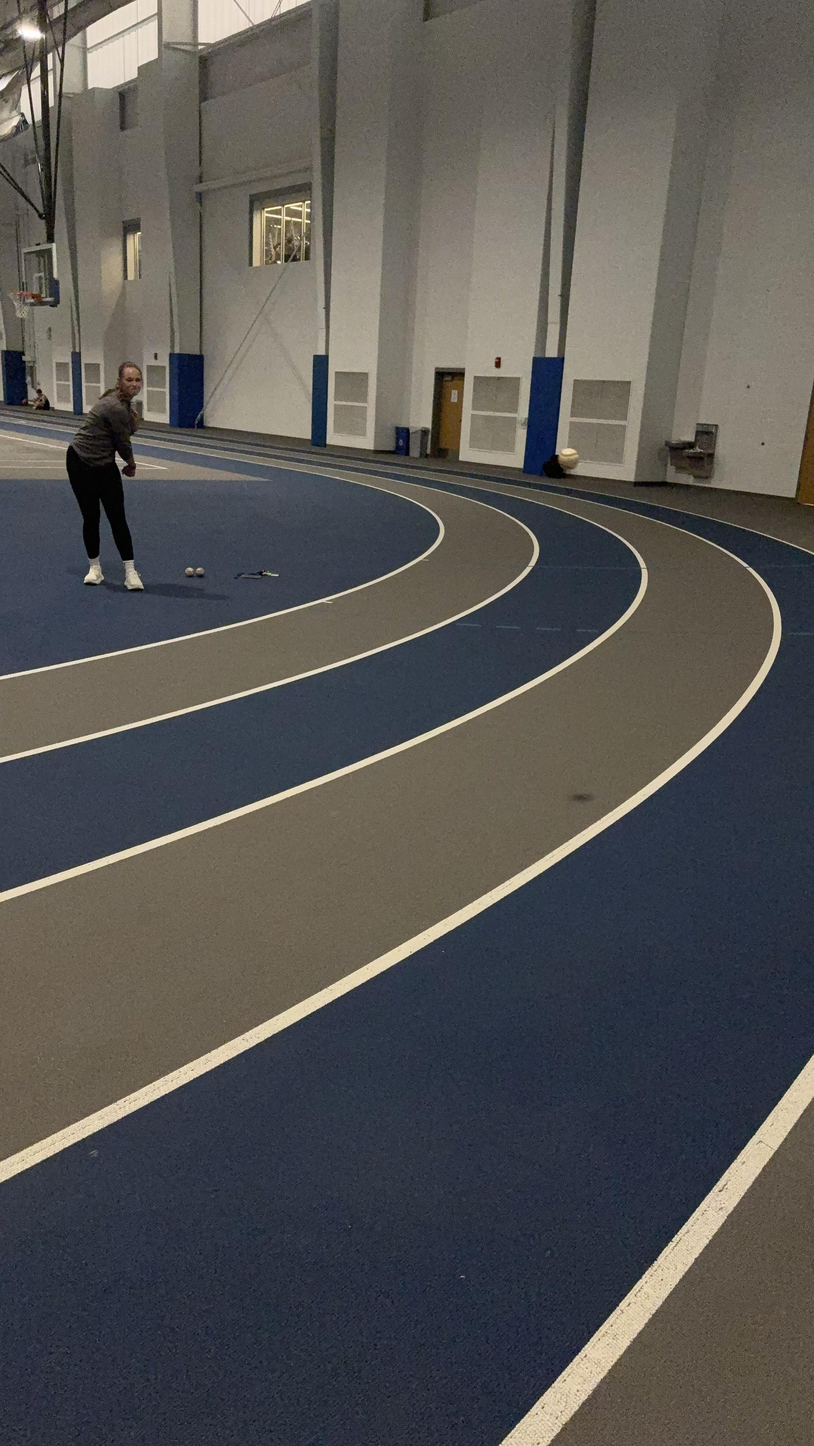Baseball: (556, 446, 582, 469)
